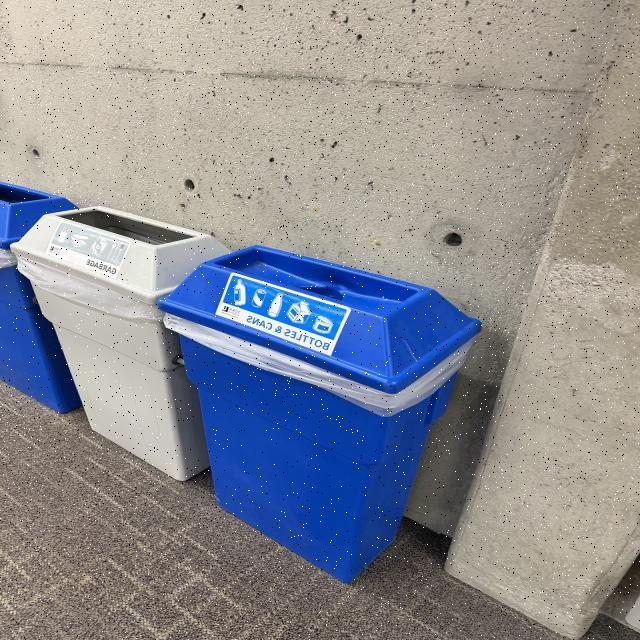Dustbin: (0, 183, 484, 586)
